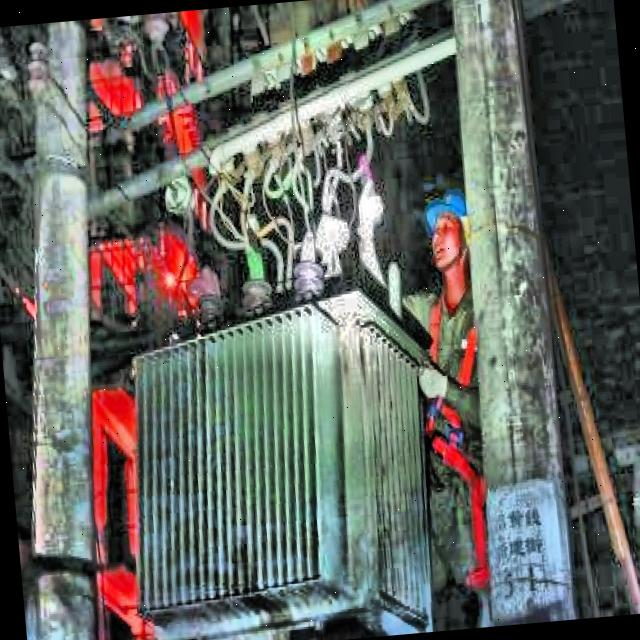helmet: (422, 192, 474, 293)
